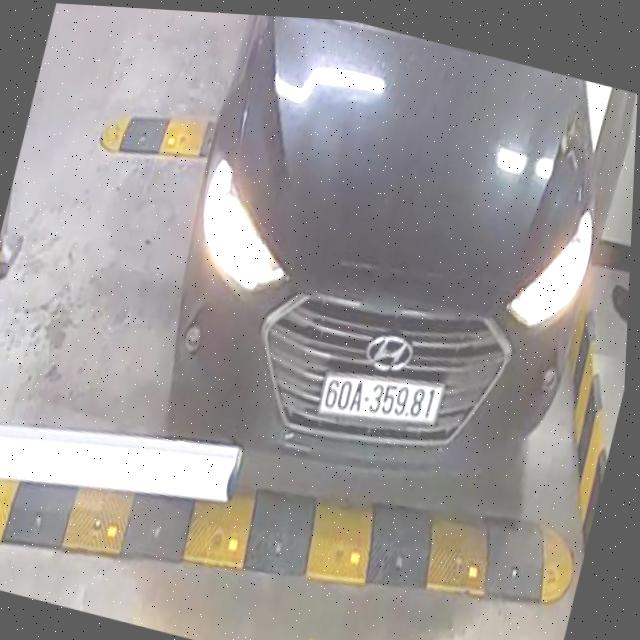car: (126, 9, 640, 540)
plate: (311, 363, 445, 439)
